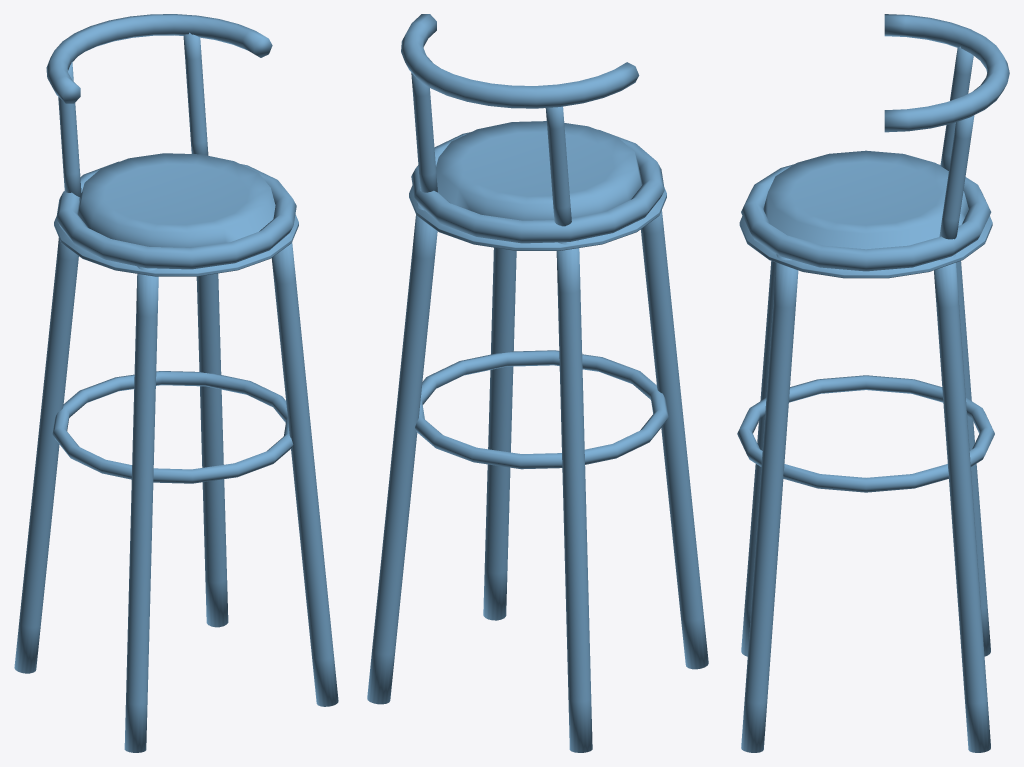
The model's file is newch5.glb.
3 renders of one model, left to right at view 1: azimuth 30°, elevation 25°; view 2: azimuth 150°, elevation 25°; view 3: azimuth 270°, elevation 25°, orthographic. The views are drawn at different scales.
Visible parts, largest first — view 1: Sphere001, Cylinder001, Cylinder002, Cylinder003, Cylinder004, Torus002, Torus001, Torus003, Tube001, Cylinder006, Cylinder005; view 2: Sphere001, Cylinder003, Cylinder004, Cylinder001, Cylinder002, Torus002, Torus001, Torus003, Tube001, Cylinder005, Cylinder006; view 3: Sphere001, Cylinder002, Cylinder004, Torus001, Torus002, Torus003, Tube001, Cylinder003, Cylinder001, Cylinder006, Cylinder005.
Part boxes in pixels (left/top/right/bottom): Sphere001: left=77, top=153, right=275, bottom=247; Cylinder001: left=124, top=266, right=158, bottom=752; Cylinder002: left=271, top=231, right=338, bottom=706; Cylinder003: left=14, top=238, right=78, bottom=673; Cylinder004: left=196, top=273, right=228, bottom=627; Torus002: left=52, top=371, right=293, bottom=483; Torus001: left=56, top=161, right=296, bottom=269; Torus003: left=46, top=14, right=272, bottom=103; Tube001: left=54, top=214, right=298, bottom=276; Cylinder006: left=183, top=32, right=208, bottom=155; Cylinder005: left=58, top=61, right=81, bottom=200; Sphere001: left=436, top=121, right=642, bottom=220; Cylinder003: left=556, top=240, right=592, bottom=752; Cylinder004: left=367, top=203, right=437, bottom=704; Cylinder001: left=640, top=210, right=708, bottom=669; Cylinder002: left=483, top=247, right=516, bottom=620; Torus002: left=415, top=350, right=668, bottom=469; Torus001: left=411, top=129, right=664, bottom=243; Torus003: left=401, top=14, right=639, bottom=108; Tube001: left=409, top=185, right=666, bottom=250; Cylinder005: left=545, top=106, right=571, bottom=226; Cylinder006: left=411, top=73, right=437, bottom=192; Sphere001: left=763, top=150, right=968, bottom=249; Cylinder002: left=741, top=254, right=798, bottom=752; Cylinder004: left=934, top=254, right=990, bottom=752; Torus001: left=741, top=164, right=991, bottom=271; Torus002: left=737, top=375, right=994, bottom=492; Torus003: left=884, top=14, right=1009, bottom=132; Tube001: left=739, top=216, right=992, bottom=278; Cylinder003: left=956, top=261, right=990, bottom=656; Cylinder001: left=741, top=261, right=775, bottom=656; Cylinder006: left=939, top=115, right=974, bottom=239; Cylinder005: left=940, top=46, right=973, bottom=170.
Bounding box in the file's own units: 34 × 92.8 × 35.94.
